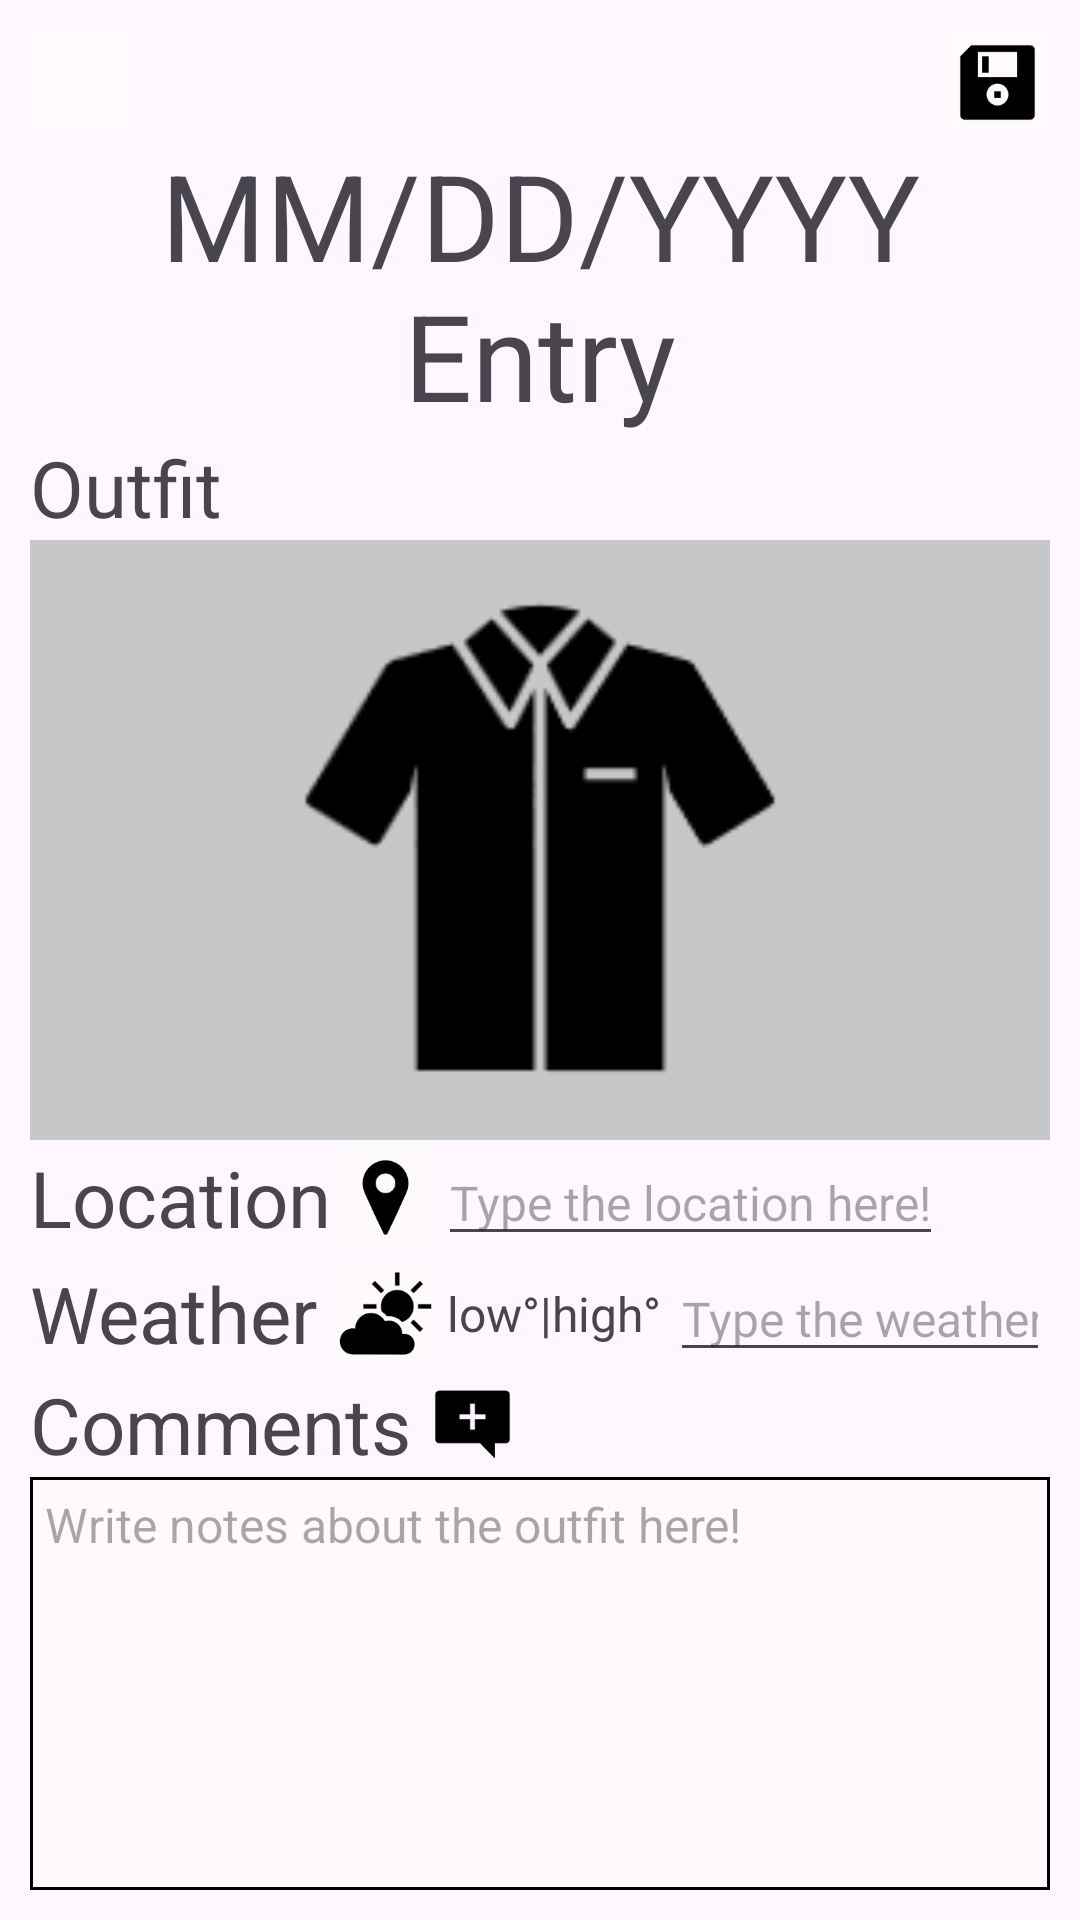

Screen size 1080 × 1920. Icon name, then its center in pixels as point (x, y):
save: point (997, 82)
